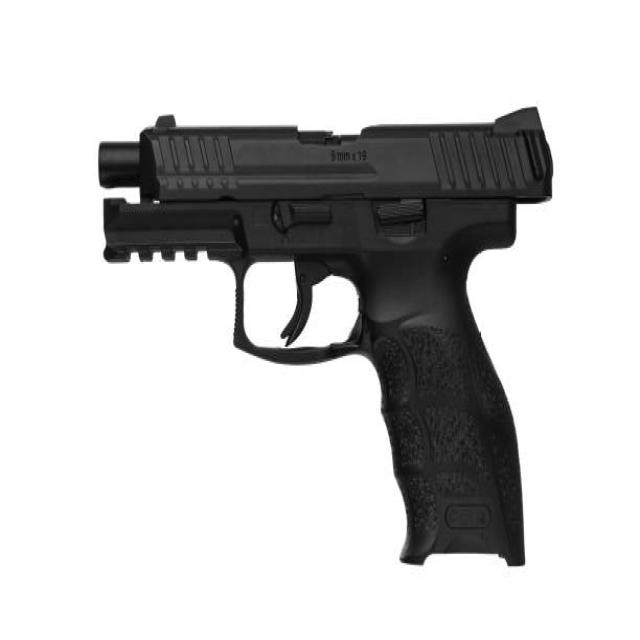pistol: (99, 102, 563, 577)
